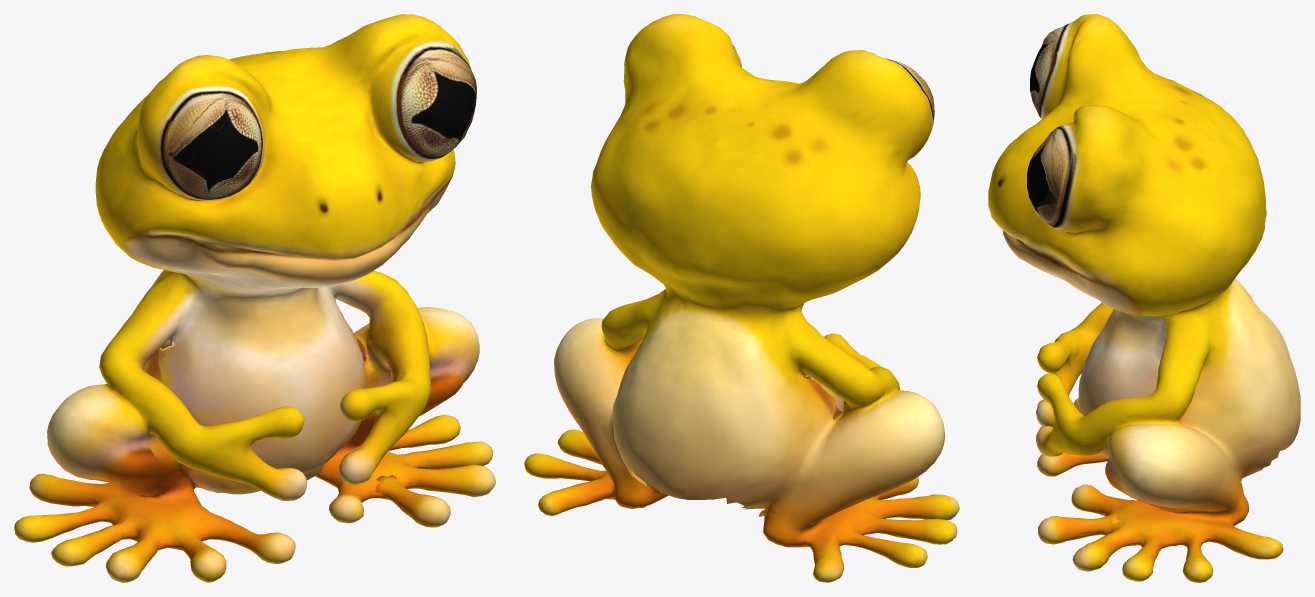
The model's file is frog_yellow_v1.glb.
3 views of the same model, side by side, from view 1: azimuth 30°, elevation 25°; view 2: azimuth 150°, elevation 25°; view 3: azimuth 270°, elevation 25° (orthographic). The views are drawn at different scales.
Bounding box in the file's own units: 1.77 × 1.9 × 1.23.
1 material, 1 textured.
